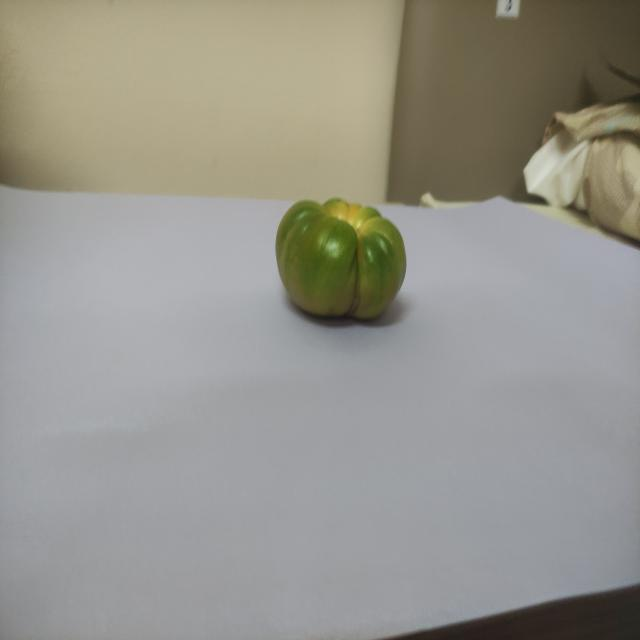yesil: (260, 175, 433, 337)
